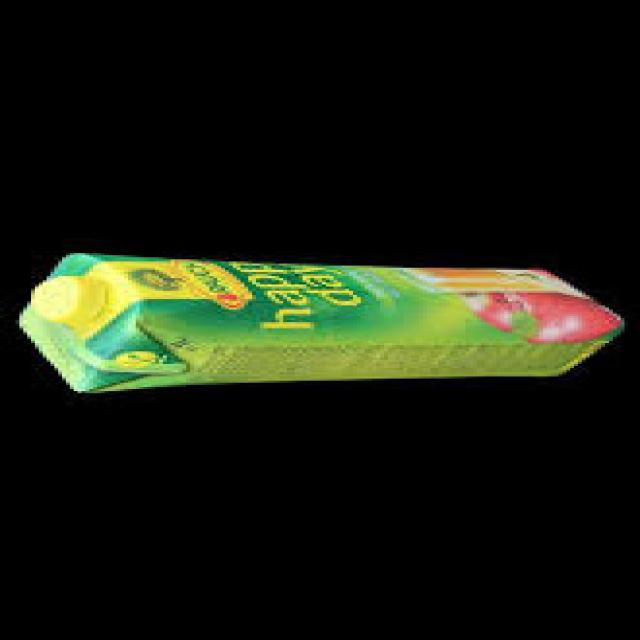non_white_jug: (15, 250, 628, 396)
